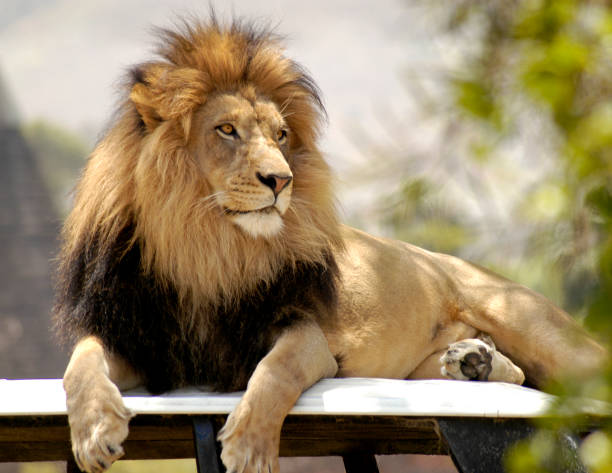lion: (35, 8, 350, 379)
